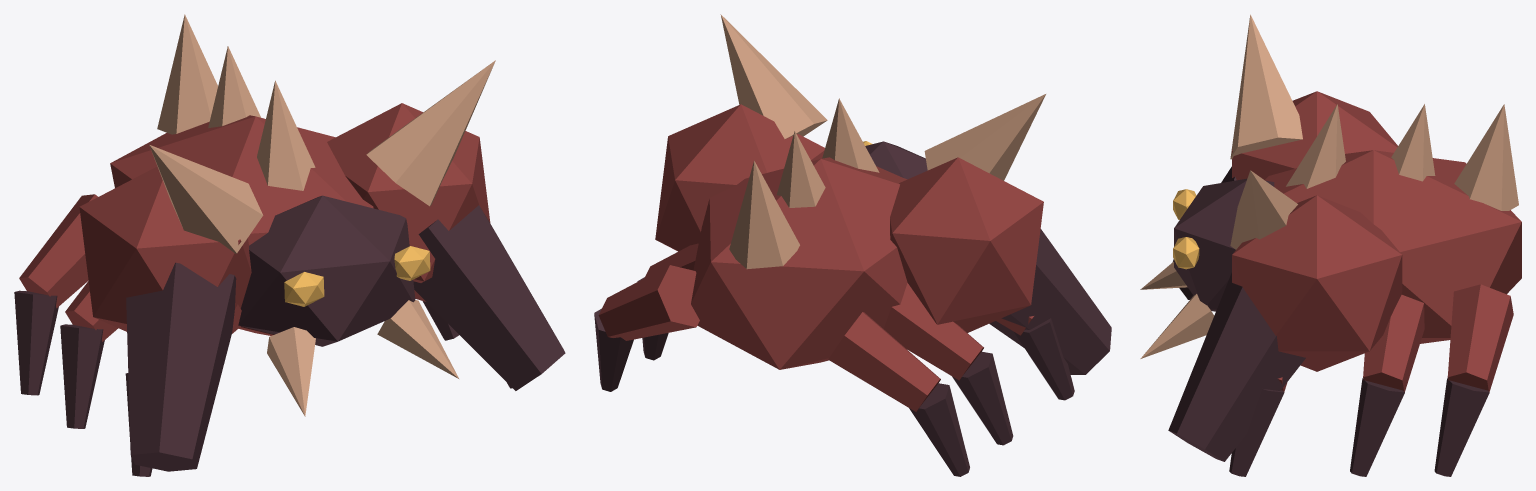
Rendered from brute.glb.
The picture shows the model from 3 angles, left to right: view 1: azimuth 30°, elevation 25°; view 2: azimuth 150°, elevation 25°; view 3: azimuth 270°, elevation 25°; orthographic projection. The views are drawn at different scales.
Visible parts, largest first — view 1: brute; view 2: brute; view 3: brute.
Part boxes in pixels (bbox=[...]): brute: bbox=[14, 14, 565, 476]; brute: bbox=[594, 14, 1111, 476]; brute: bbox=[1140, 14, 1521, 476].
Bounding box in the file's own units: 2.43 × 1.75 × 2.01.
Materials: 1 (1 with a texture image).
